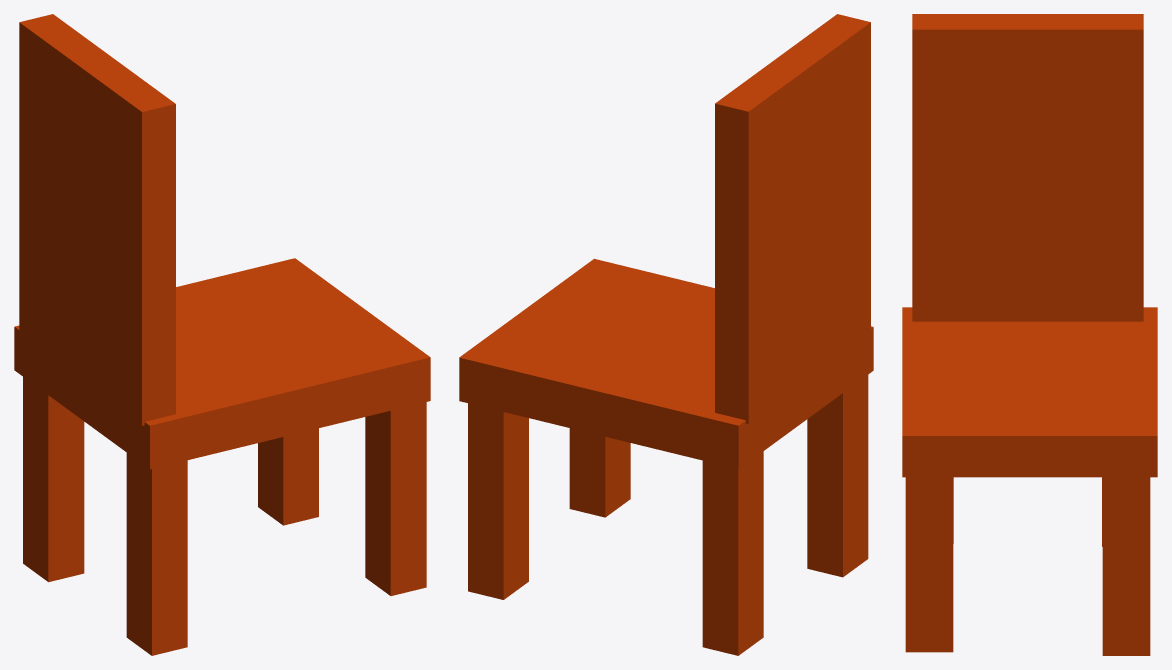
The model's file is chair1.obj.
3 views of the same model, side by side, from view 1: azimuth 30°, elevation 25°; view 2: azimuth 150°, elevation 25°; view 3: azimuth 270°, elevation 25° (orthographic). The views are drawn at different scales.
Parts seen in each view (by area): view 1: Cube.005; view 2: Cube.005; view 3: Cube.005.
Boxes of the visible parts, x1,y1,x2,y2 form: Cube.005: (14,14,430,655); Cube.005: (459,14,873,655); Cube.005: (902,14,1157,655).
Size of the model in its own units: 2.41 by 4.45 by 2.
